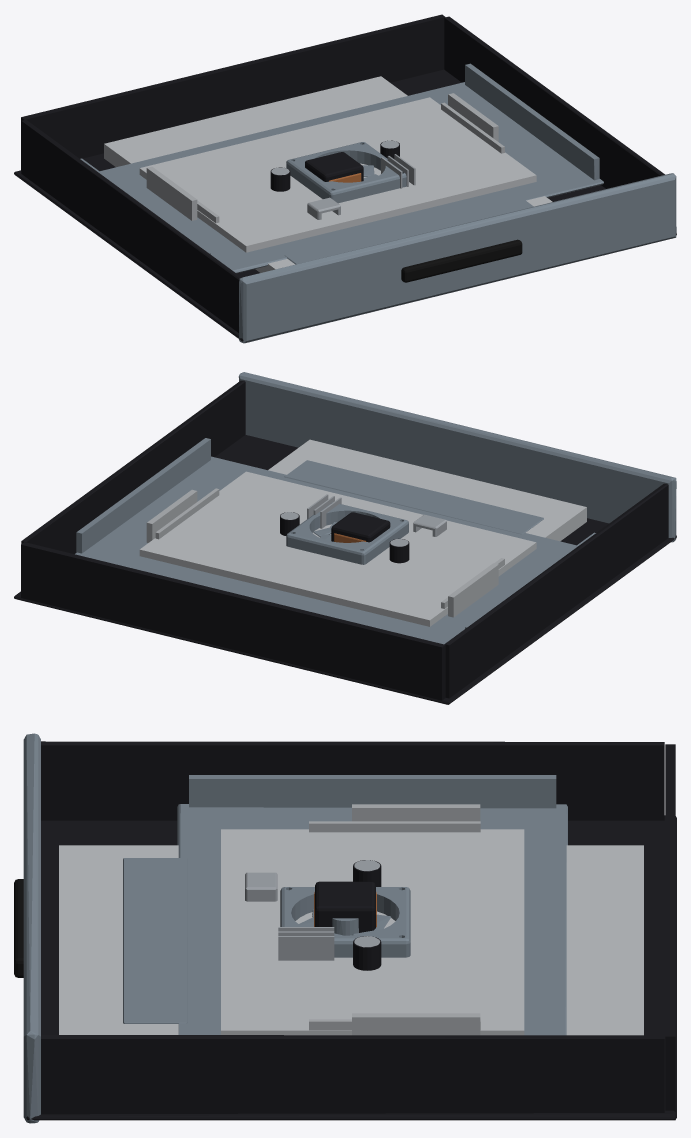
The model's file is impresoras_demo.glb.
3 views of the same model, one above another, from view 1: azimuth 30°, elevation 25°; view 2: azimuth 150°, elevation 25°; view 3: azimuth 270°, elevation 25° (orthographic). The views are drawn at different scales.
Parts seen in each view (by area): view 1: bandeja_papel@laser, bandeja_papel@tinta, ventilador_fuente@impresora, fuente@impresora, placa@impresora; view 2: bandeja_papel@laser, bandeja_papel@tinta, ventilador_fuente@impresora, fuente@impresora, placa@impresora; view 3: bandeja_papel@laser, bandeja_papel@tinta, fuente@impresora, ventilador_fuente@impresora, placa@impresora.
Boxes of the visible parts, left/top/right/bottom form: bandeja_papel@laser: left=14, top=14, right=676, bottom=343; bandeja_papel@tinta: left=80, top=63, right=603, bottom=273; ventilador_fuente@impresora: left=286, top=142, right=406, bottom=203; fuente@impresora: left=270, top=140, right=415, bottom=191; placa@impresora: left=307, top=197, right=340, bottom=219; bandeja_papel@laser: left=14, top=372, right=676, bottom=704; bandeja_papel@tinta: left=75, top=438, right=595, bottom=644; ventilador_fuente@impresora: left=286, top=502, right=408, bottom=564; fuente@impresora: left=280, top=494, right=409, bottom=563; placa@impresora: left=413, top=514, right=446, bottom=536; bandeja_papel@laser: left=14, top=733, right=676, bottom=1123; bandeja_papel@tinta: left=123, top=775, right=567, bottom=1035; fuente@impresora: left=278, top=860, right=381, bottom=970; ventilador_fuente@impresora: left=280, top=887, right=410, bottom=957; placa@impresora: left=245, top=872, right=277, bottom=901.
Bounding box in the file's own units: 33 × 4.7 × 30.55.
